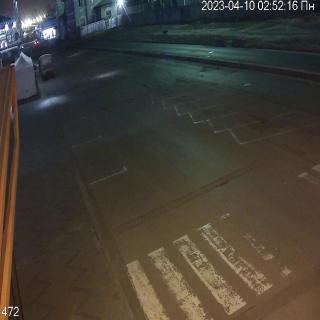dog: (162, 30, 168, 36)
